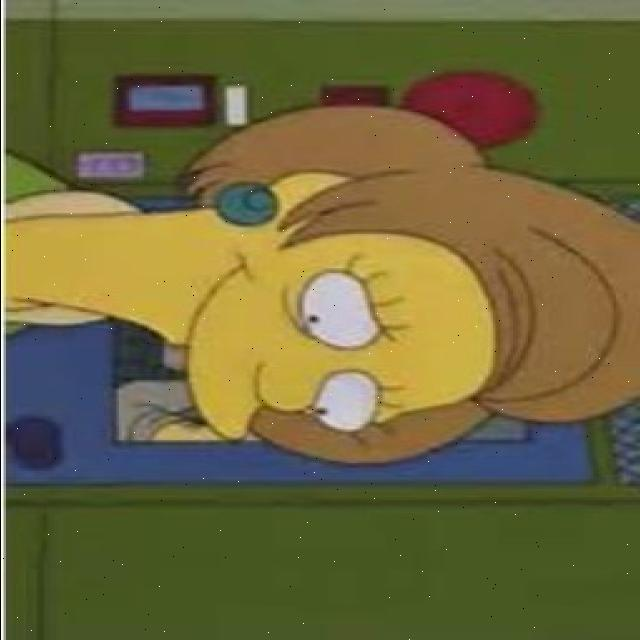Edna Krappel: (83, 101, 640, 471)
